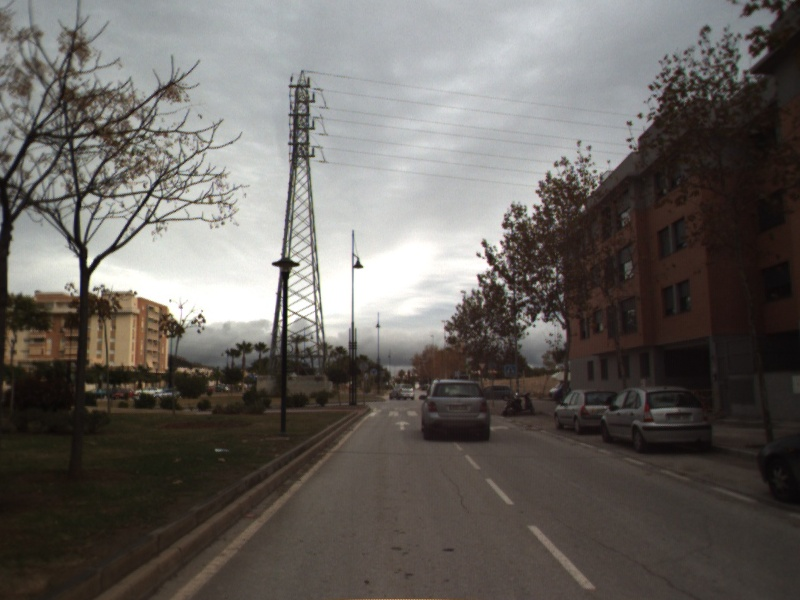STRAIGHT: (393, 418, 412, 432)
